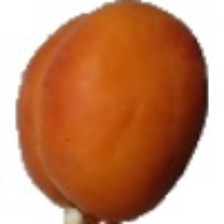apricot: (11, 30, 207, 208)
